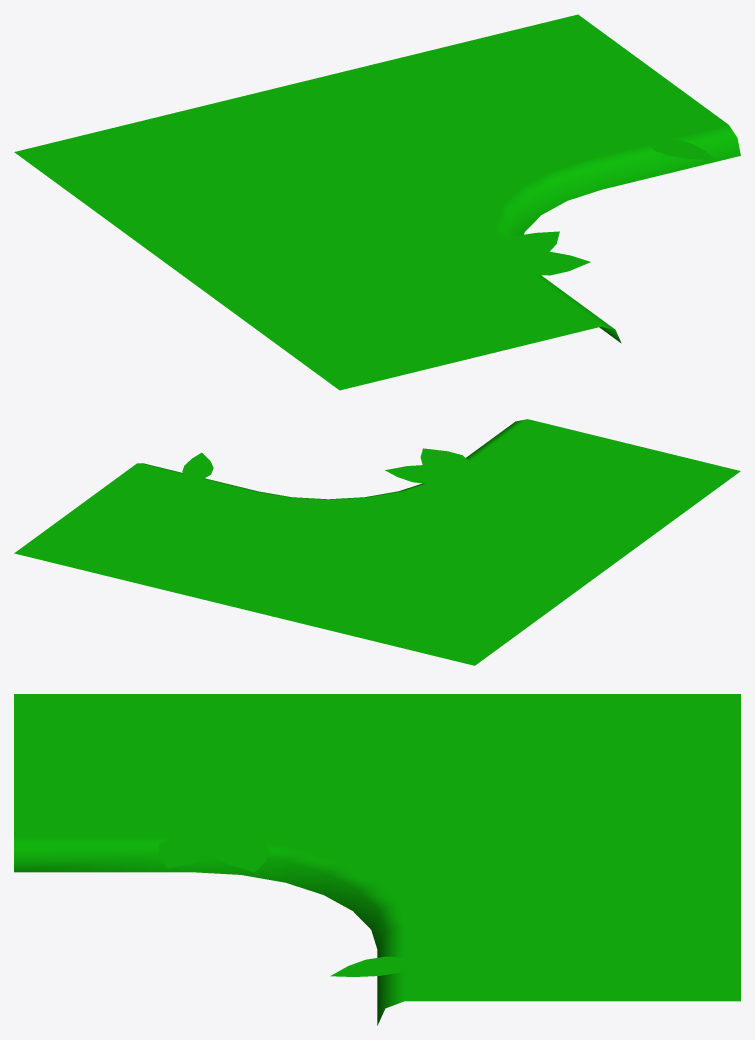
The picture shows the model from 3 angles, top to bottom: view 1: azimuth 30°, elevation 25°; view 2: azimuth 150°, elevation 25°; view 3: azimuth 270°, elevation 25°; orthographic projection. The views are drawn at different scales.
Visible parts, largest first — view 1: Plane.003; view 2: Plane.003; view 3: Plane.003.
Part boxes in pixels (x1=…): Plane.003: x1=14, y1=14, x2=740, y2=390; Plane.003: x1=14, y1=419, x2=740, y2=665; Plane.003: x1=14, y1=694, x2=740, y2=1025.
Bounding box in the file's own units: 4 × 0.15 × 4.
